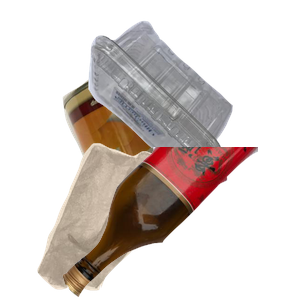glass: (60, 147, 300, 300)
metal: (60, 58, 300, 238)
plastic: (86, 18, 300, 171)
trash: (35, 140, 203, 300)
